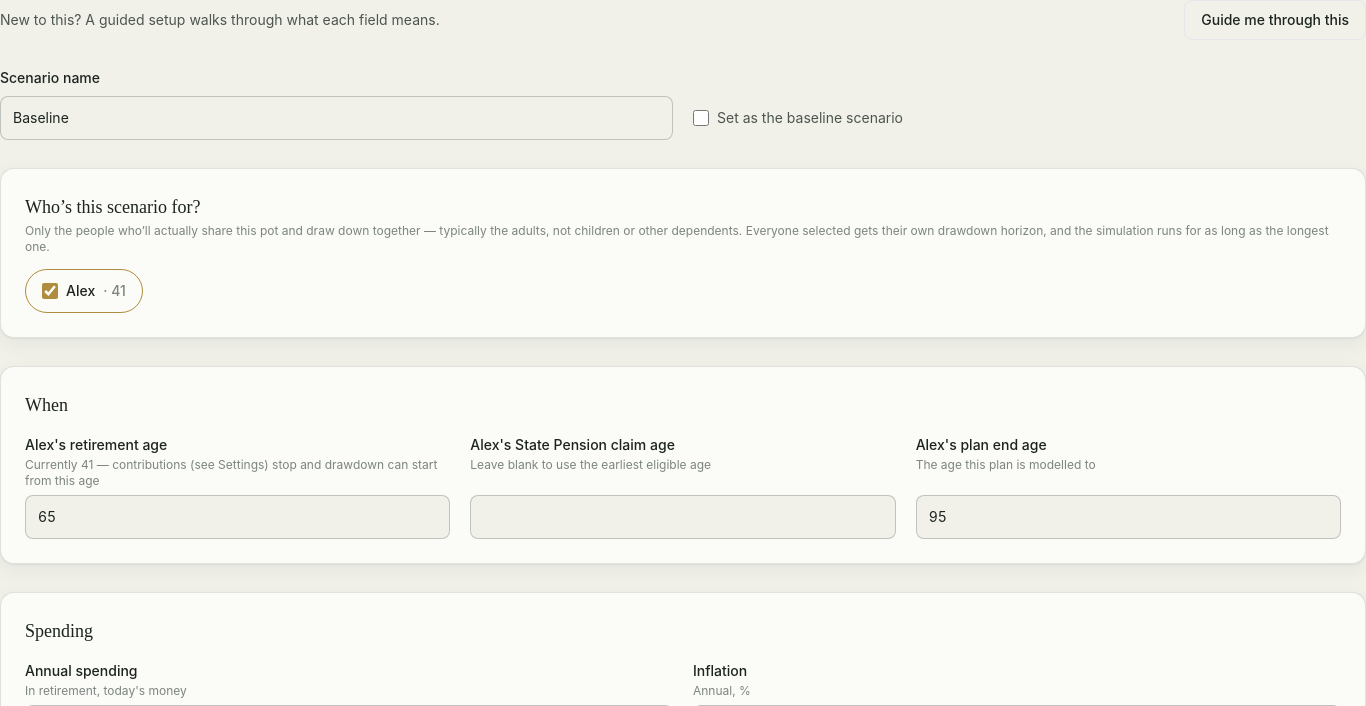
ScenarioEditorForm › person picker › preserves a person's entered fields across unselect/reselect rather than discarding them
Replace the text in the field labelled "Alex's retirement age" with "62". click: (238, 517)
box: [25, 495, 450, 539]
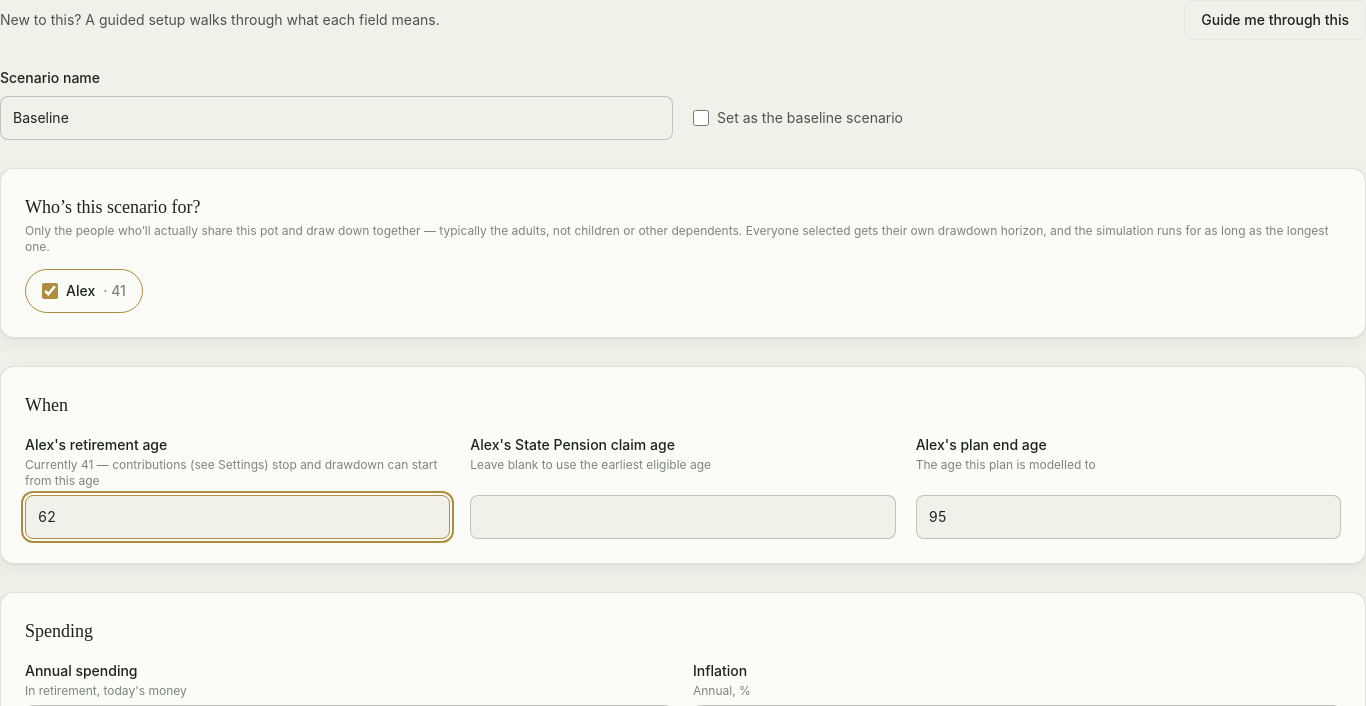
Click the checkbox labelled "Alex · 41". click: (50, 291)
box: [42, 283, 58, 299]
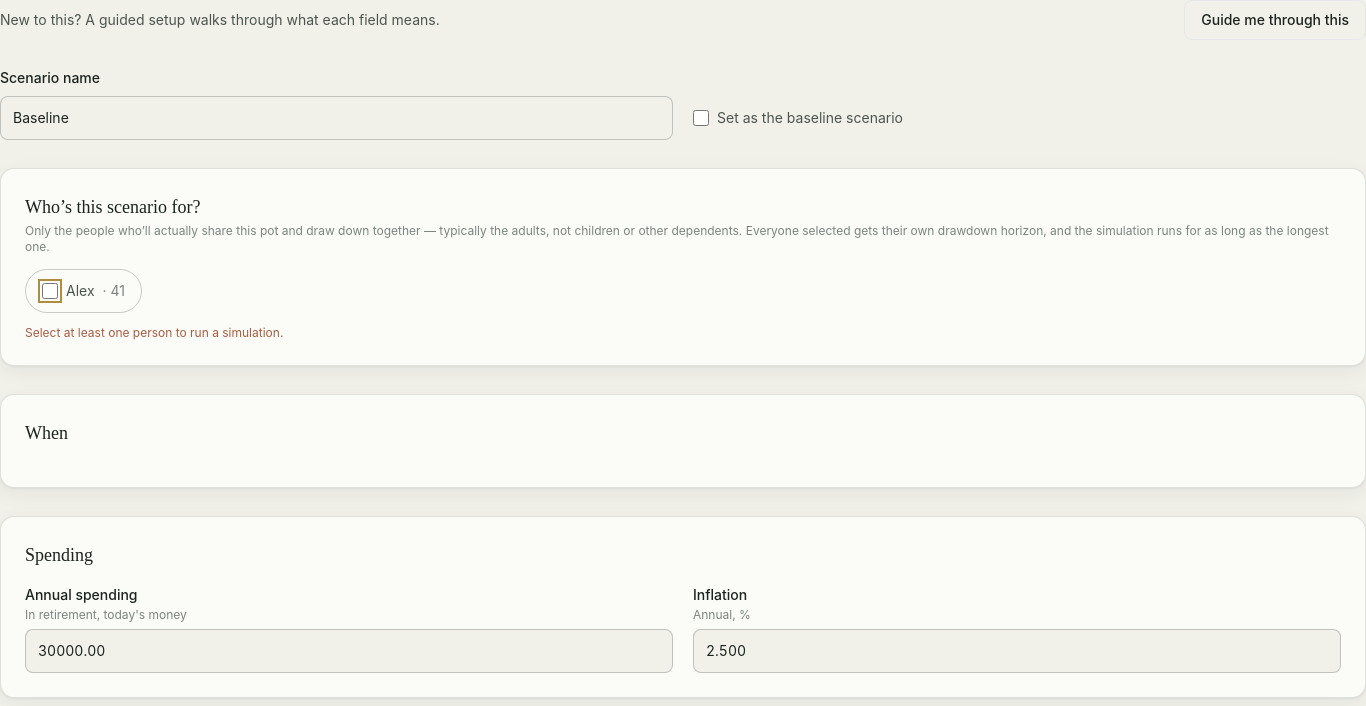
Result: the label labelled "Alex's retirement age" is gone
Click the checkbox labelled "Alex · 41". click: (50, 291)
box: [42, 283, 58, 299]
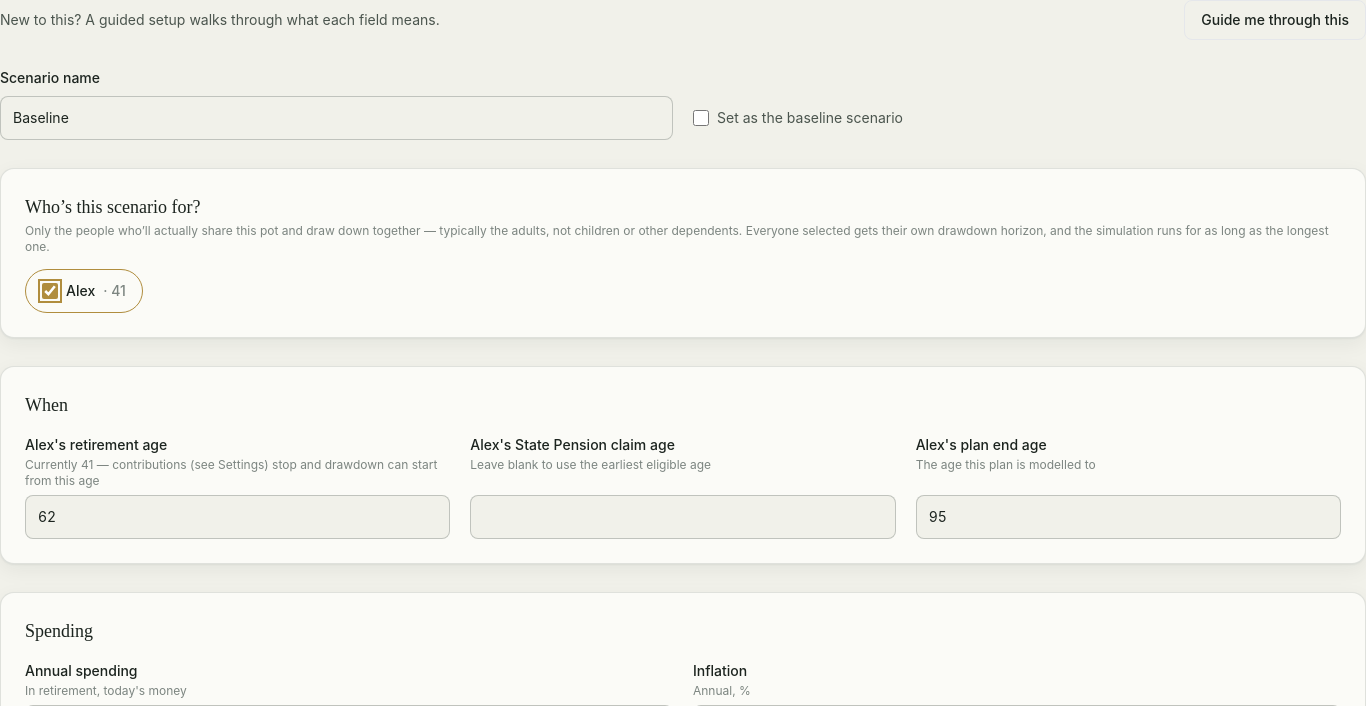
Result: the field labelled "Alex's retirement age" holds "62" at [25, 495, 450, 539]
